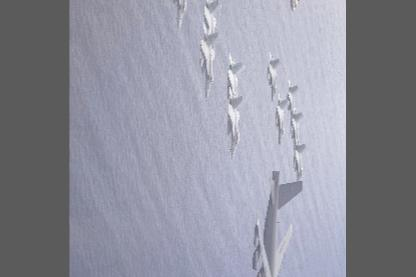B2: (253, 169, 304, 276)
C5: (290, 0, 308, 11)
F15: (200, 21, 221, 98), (228, 86, 247, 160), (204, 0, 223, 50), (228, 52, 246, 98), (276, 92, 290, 145), (171, 0, 195, 30), (268, 51, 282, 102), (294, 136, 308, 180), (291, 105, 304, 152), (288, 78, 300, 124)
